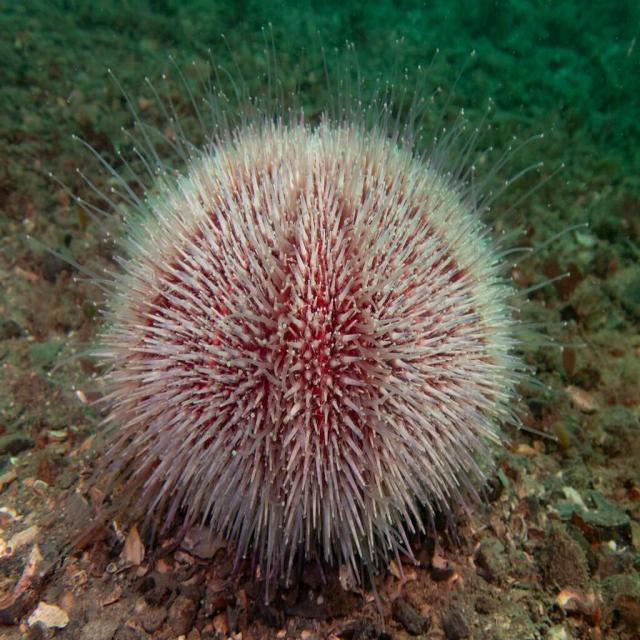Deniz Kestanesi: (26, 20, 588, 634)
